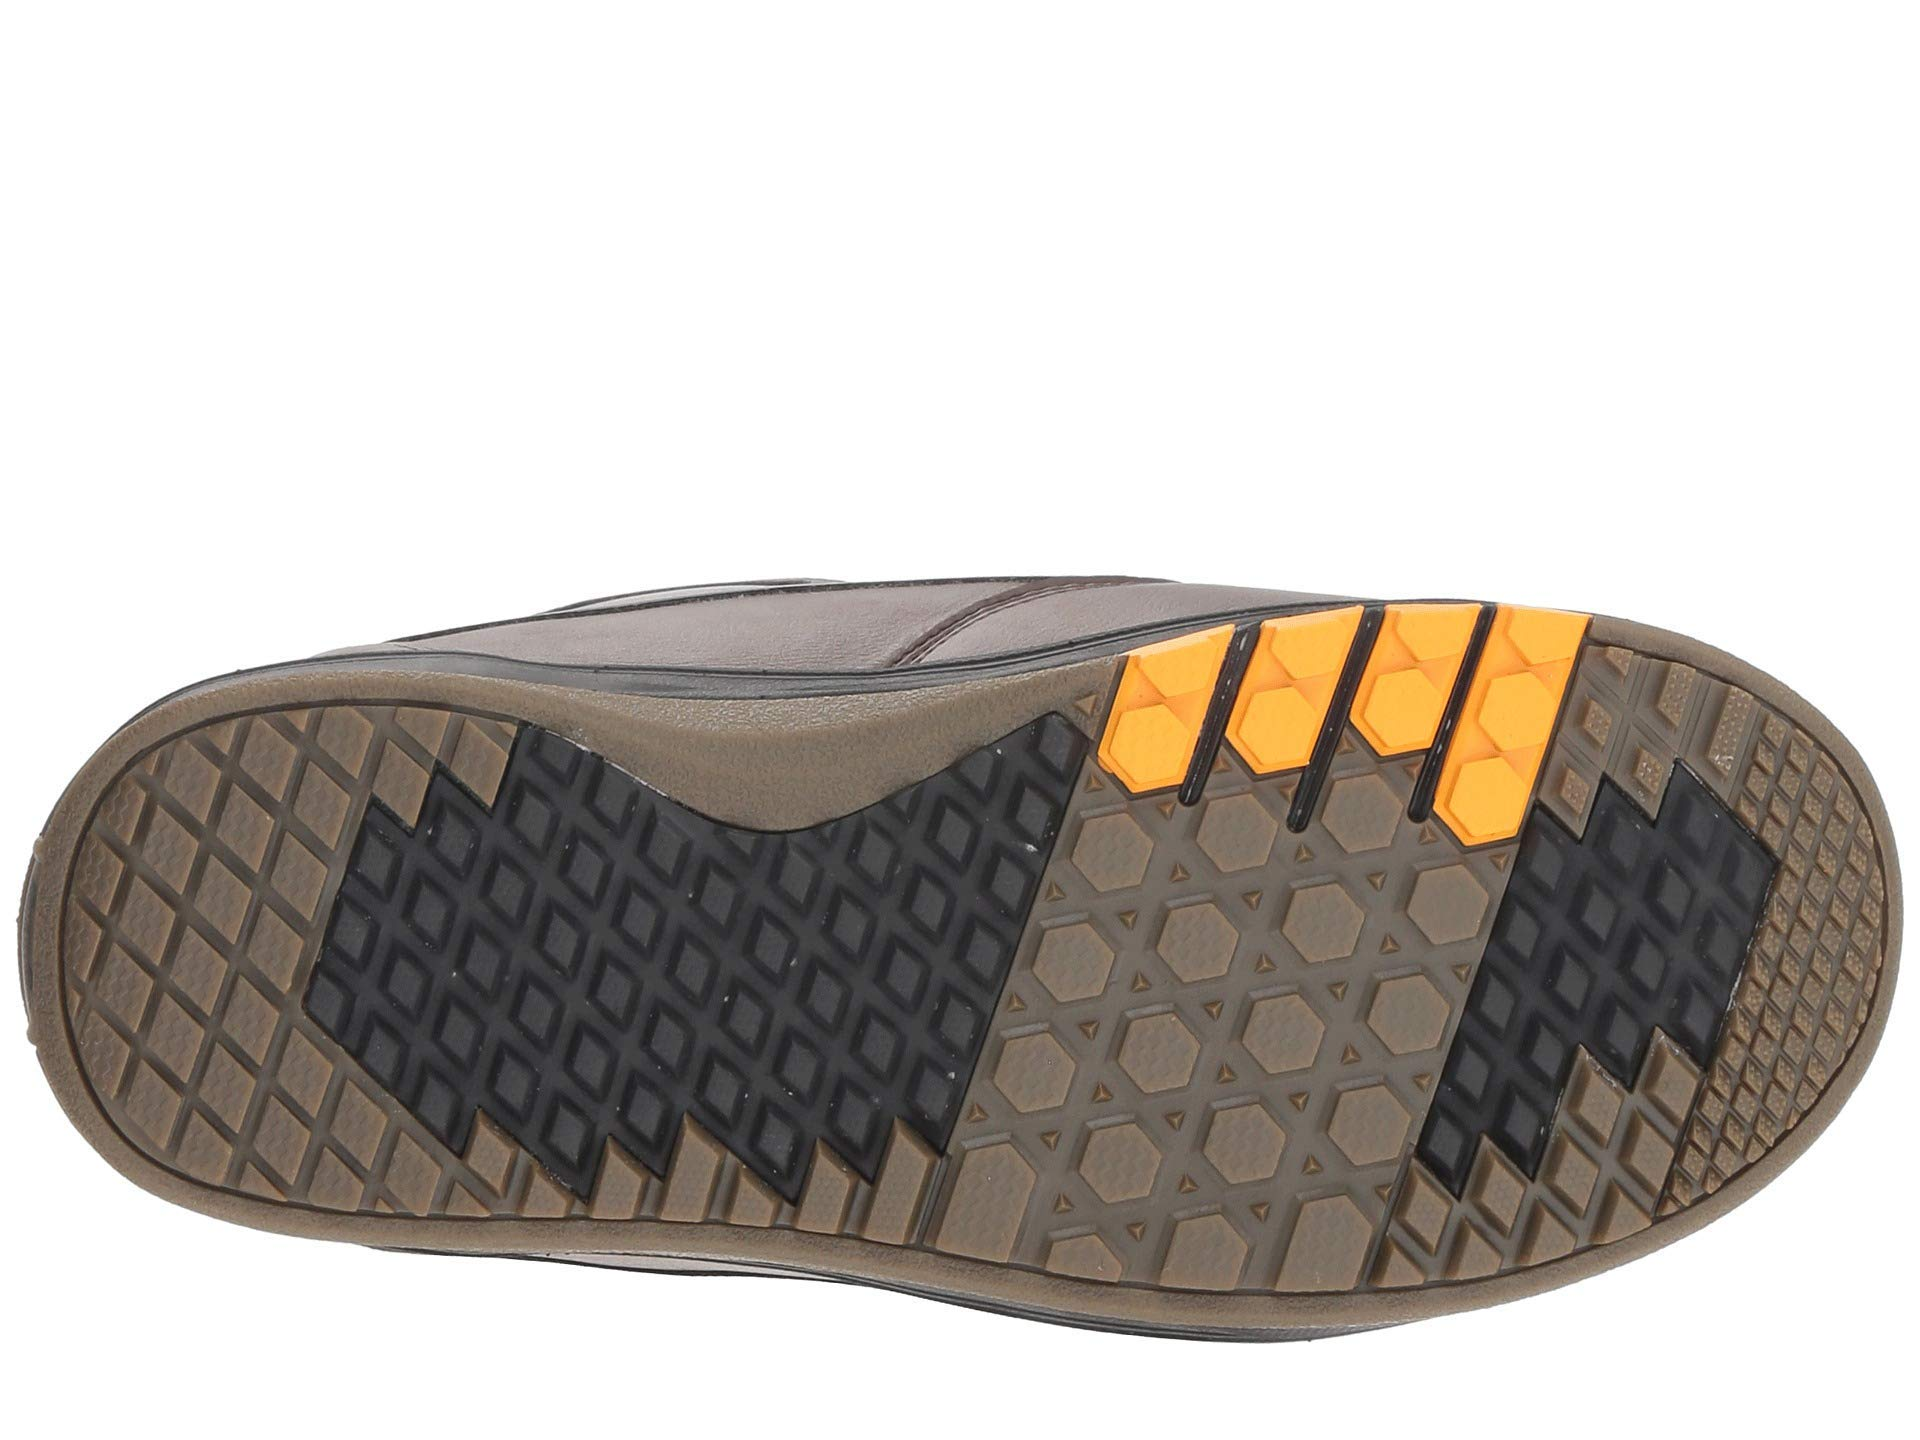polygon: (1030, 790, 1451, 1180), (1101, 632, 1571, 777)
quad: (127, 750, 606, 1201), (618, 814, 958, 1239), (1521, 823, 1841, 1125)
triangle: (1030, 790, 1451, 1180)
